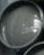cylinder: (1, 1, 44, 55)
